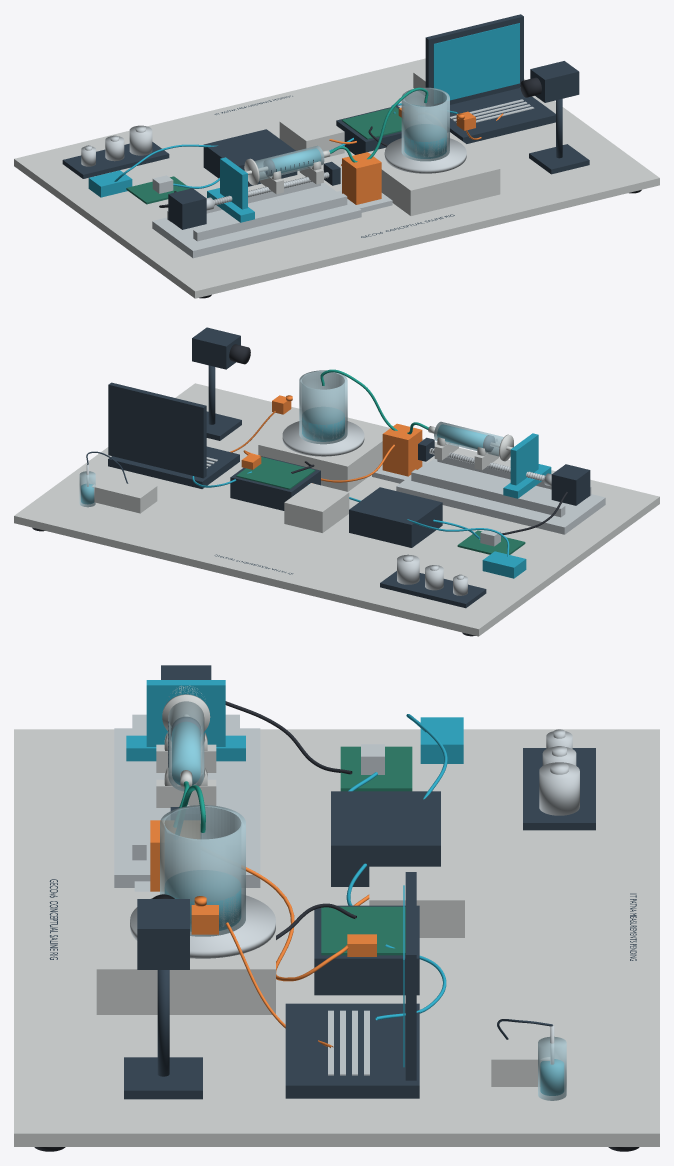
Rendered from GECOv6_Rig_Concept.glb.
The picture shows the model from 3 angles, top to bottom: view 1: azimuth 30°, elevation 25°; view 2: azimuth 150°, elevation 25°; view 3: azimuth 270°, elevation 25°; orthographic projection. The views are drawn at different scales.
Parts seen in each view (by area): view 1: B01 Bench base, M01 Syringe pump base, L03 Acquisition screen, T01 Balance enclosure, R01 Receiving vessel, L01 Independent acquisition computer, G01 Gateway host, E01 Isolated supply concept, M02_105 Linear rail, L02 Acquisition screen frame, V01 Proposed pinch valve, T02 Balance pan (+17 smaller); view 2: B01 Bench base, L02 Acquisition screen frame, M01 Syringe pump base, G01 Gateway host, T01 Balance enclosure, R01 Receiving vessel, E01 Isolated supply concept, M02_183 Linear rail, L01 Independent acquisition computer, D01 Temperature acquisition module, T04 Independent monitor, V01 Proposed pinch valve (+18 smaller); view 3: B01 Bench base, T01 Balance enclosure, L01 Independent acquisition computer, G01 Gateway host, R01 Receiving vessel, M01 Syringe pump base, E01 Isolated supply concept, T04 Independent monitor, A03 Reference camera body, K20 Reference mass tray, D01 Temperature acquisition module, T05 Monitor PCB (+23 smaller).
Boxes of the visible parts, <box> form: B01 Bench base: <box>14,58,659,298</box>; M01 Syringe pump base: <box>152,182,361,258</box>; L03 Acquisition screen: <box>433,23,519,100</box>; T01 Balance enclosure: <box>368,132,500,215</box>; R01 Receiving vessel: <box>401,87,449,161</box>; L01 Independent acquisition computer: <box>450,88,555,143</box>; G01 Gateway host: <box>203,129,297,186</box>; E01 Isolated supply concept: <box>279,112,344,157</box>; M02_105 Linear rail: <box>193,193,347,241</box>; L02 Acquisition screen frame: <box>425,14,523,104</box>; V01 Proposed pinch valve: <box>342,152,381,204</box>; T02 Balance pan: <box>384,138,466,173</box>; B01 Bench base: <box>14,383,659,636</box>; L02 Acquisition screen frame: <box>108,382,206,478</box>; M01 Syringe pump base: <box>396,458,605,534</box>; G01 Gateway host: <box>349,487,442,547</box>; T01 Balance enclosure: <box>258,415,390,491</box>; R01 Receiving vessel: <box>299,370,347,444</box>; E01 Isolated supply concept: <box>284,483,349,532</box>; M02_183 Linear rail: <box>411,469,565,517</box>; L01 Independent acquisition computer: <box>108,446,239,488</box>; D01 Temperature acquisition module: <box>92,474,157,513</box>; T04 Independent monitor: <box>230,456,320,510</box>; V01 Proposed pinch valve: <box>382,423,422,476</box>; B01 Bench base: <box>14,729,659,1146</box>; T01 Balance enclosure: <box>96,891,275,1014</box>; L01 Independent acquisition computer: <box>285,1003,419,1098</box>; G01 Gateway host: <box>331,791,440,886</box>; R01 Receiving vessel: <box>160,805,245,936</box>; M01 Syringe pump base: <box>114,728,260,887</box>; E01 Isolated supply concept: <box>369,866,464,937</box>; T04 Independent monitor: <box>314,905,419,995</box>; A03 Reference camera body: <box>137,899,189,969</box>; K20 Reference mass tray: <box>523,748,595,830</box>; D01 Temperature acquisition module: <box>491,1017,550,1086</box>; T05 Monitor PCB: <box>321,906,405,955</box>.
Size of the model in its own units: 0.8 by 0.1859 by 0.54.
